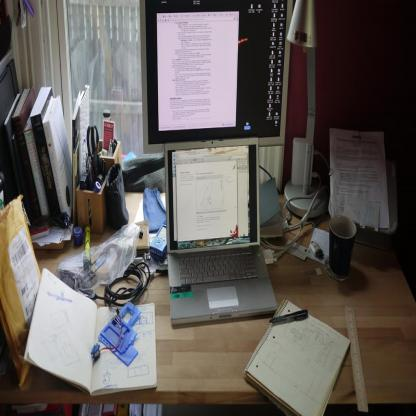board: (165, 136, 277, 328), (87, 126, 99, 176)
